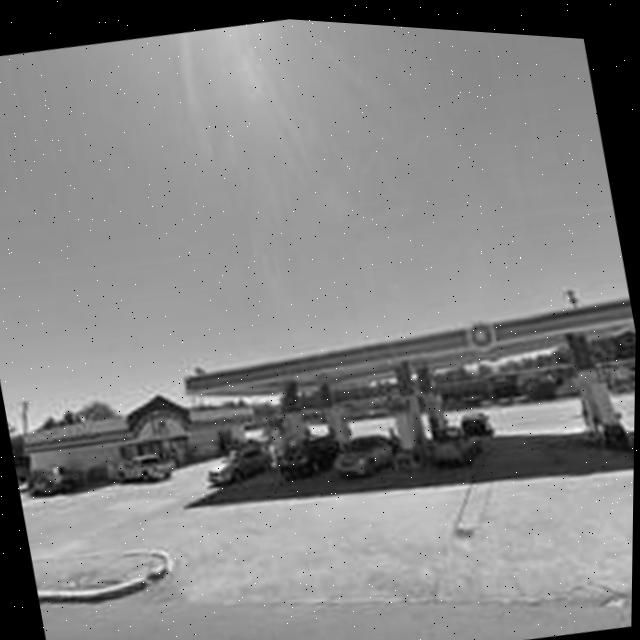building: (176, 262, 636, 520), (19, 365, 261, 504)
